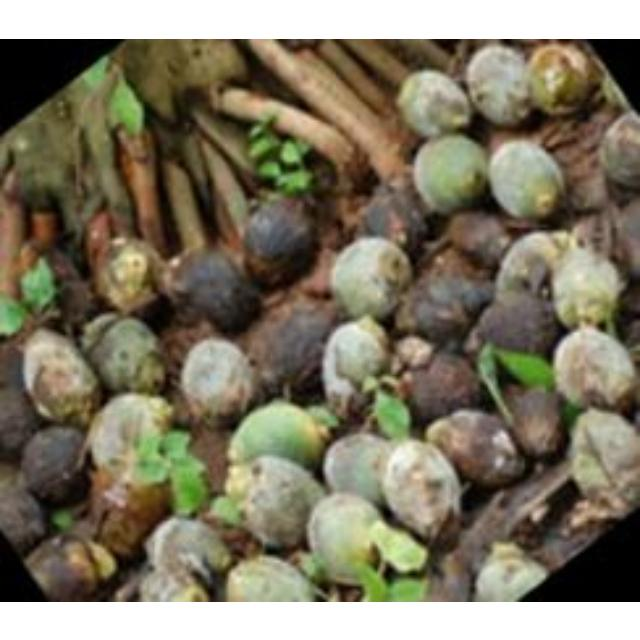damaged: (465, 454, 575, 554), (246, 302, 338, 398), (235, 454, 328, 548), (306, 491, 396, 584), (380, 438, 462, 540), (90, 459, 174, 558), (426, 408, 526, 490), (20, 328, 101, 426), (168, 248, 262, 332), (86, 392, 174, 478), (193, 125, 257, 243), (242, 194, 321, 286), (320, 316, 394, 414), (550, 326, 634, 412), (228, 400, 330, 470), (566, 408, 640, 502), (328, 235, 410, 319), (83, 314, 169, 394), (178, 338, 258, 424), (242, 39, 344, 105), (404, 270, 492, 346), (116, 38, 200, 116), (550, 246, 626, 330), (24, 530, 114, 600), (119, 126, 168, 254), (488, 138, 564, 220), (92, 236, 170, 314), (412, 133, 488, 213), (326, 38, 430, 96), (320, 432, 396, 508), (20, 424, 92, 504), (148, 515, 232, 583), (158, 145, 210, 253), (464, 44, 532, 126), (402, 352, 478, 424), (248, 114, 316, 194), (526, 42, 598, 116), (358, 182, 429, 254), (396, 70, 469, 138), (501, 385, 565, 461), (560, 132, 616, 215), (223, 554, 323, 600), (496, 230, 564, 296), (474, 541, 546, 601), (170, 38, 246, 94), (0, 470, 48, 556), (443, 208, 509, 268), (157, 318, 217, 382), (596, 112, 640, 192), (476, 344, 516, 430), (483, 343, 555, 389), (186, 424, 234, 492), (586, 52, 630, 120), (1, 383, 40, 459), (167, 449, 210, 515), (426, 243, 488, 287), (537, 108, 597, 152), (217, 85, 285, 123), (427, 548, 473, 602), (108, 72, 144, 138), (84, 206, 116, 274), (87, 463, 123, 523), (581, 202, 617, 260), (19, 258, 56, 312), (614, 194, 640, 270), (224, 460, 258, 508), (392, 334, 436, 371), (81, 311, 121, 351), (486, 126, 528, 164), (0, 342, 30, 394), (61, 512, 103, 548), (16, 236, 46, 284), (80, 55, 112, 91), (0, 294, 28, 334), (30, 210, 60, 247), (209, 496, 243, 528), (0, 460, 26, 498), (1, 164, 23, 202), (10, 133, 32, 155), (54, 98, 70, 120)
